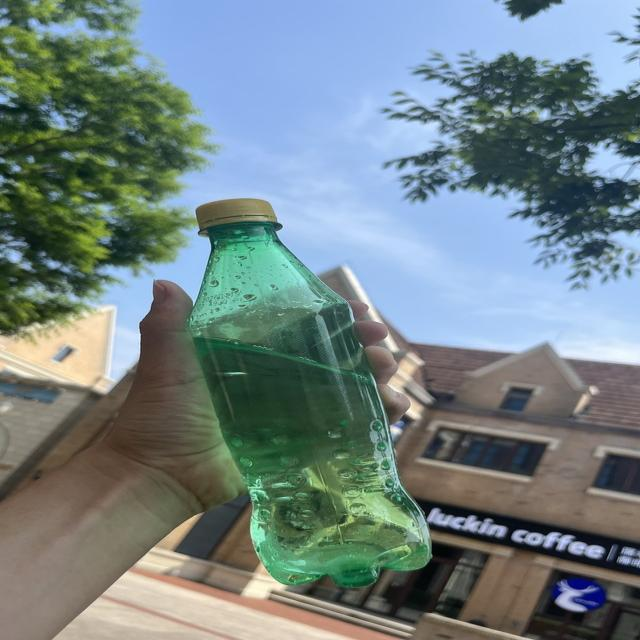medium: (188, 199, 430, 587)
